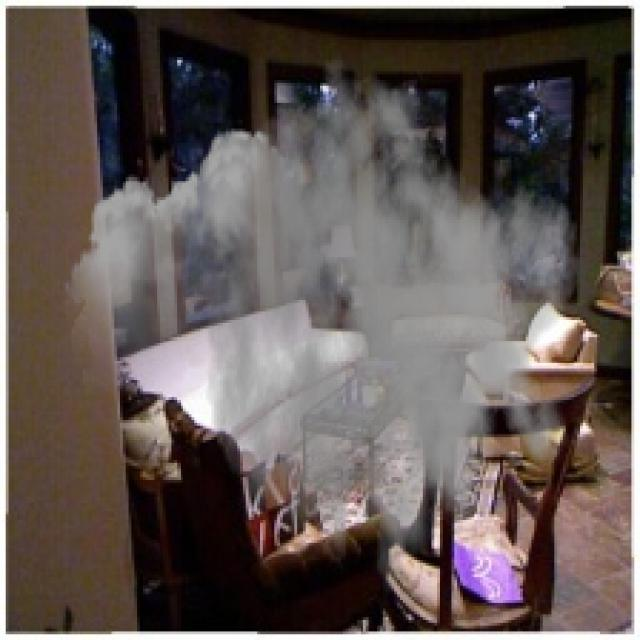smoke: (63, 57, 583, 620)
